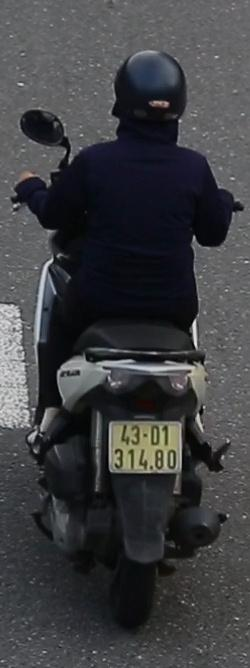LP: (105, 414, 184, 480)
helmet: (108, 44, 191, 147)
